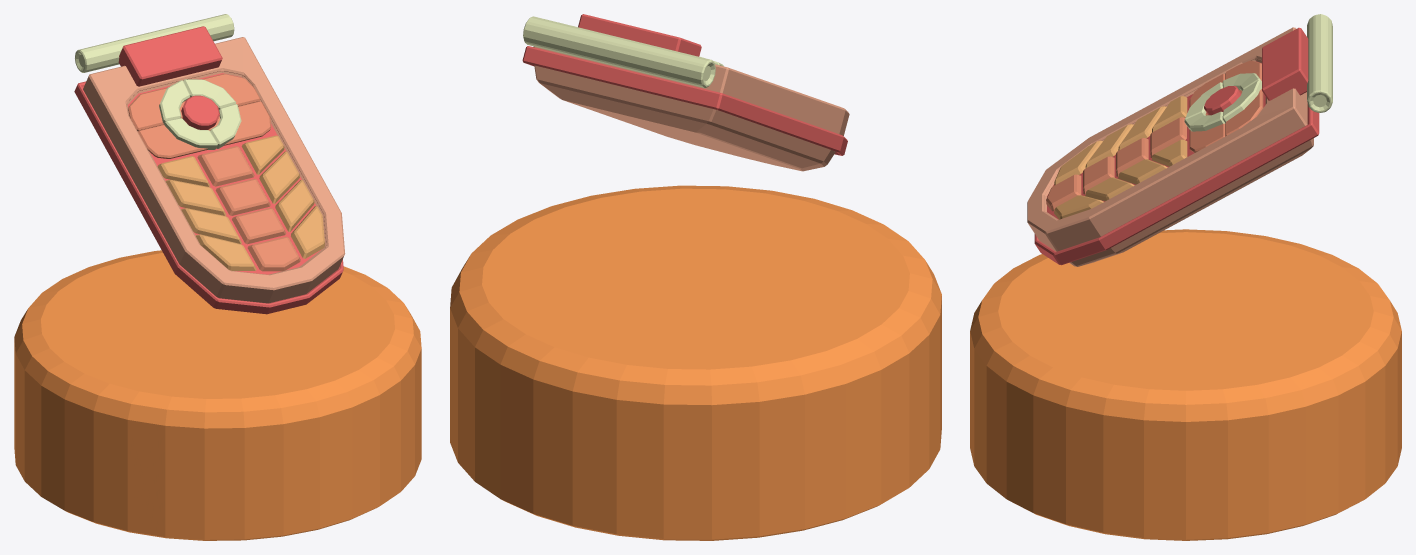
File: 532_ghosting.fbx
3 renders of one model, left to right at view 1: azimuth 30°, elevation 25°; view 2: azimuth 150°, elevation 25°; view 3: azimuth 270°, elevation 25°, orthographic. The views are drawn at different scales.
Parts seen in each view (by area): view 1: base, phone_body.001, axis.001; view 2: base, phone_body.001, axis.001; view 3: base, phone_body.001, axis.001.
Boxes of the visible parts, x1,y1,x2,y2 form: base: [14, 250, 421, 540]; phone_body.001: [74, 26, 345, 314]; axis.001: [75, 14, 234, 72]; base: [450, 185, 941, 540]; phone_body.001: [522, 14, 849, 171]; axis.001: [523, 16, 715, 87]; base: [970, 229, 1401, 540]; phone_body.001: [1027, 27, 1319, 266]; axis.001: [1307, 14, 1332, 112].
Size of the model in its own units: 366 by 378 by 366.
